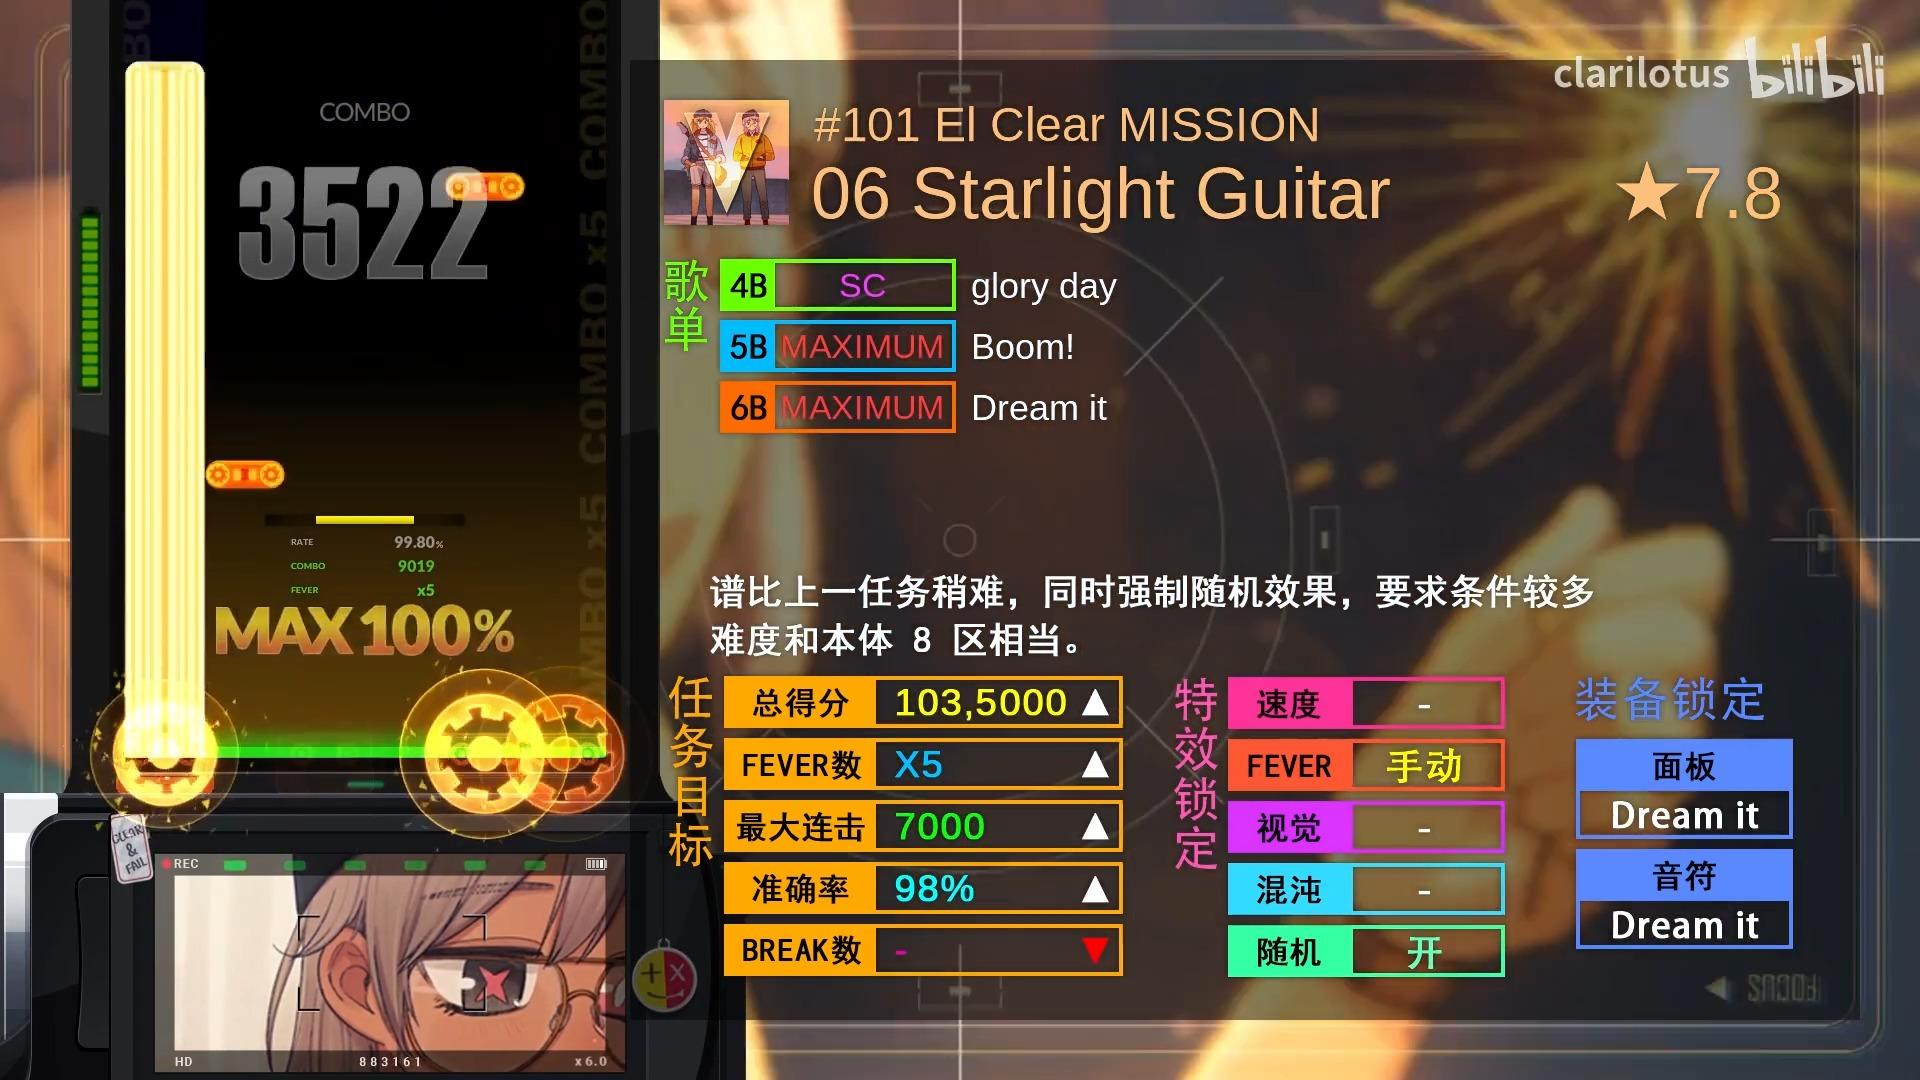hold-end: (127, 61, 204, 94)
note: (207, 460, 284, 491), (447, 173, 525, 200)
